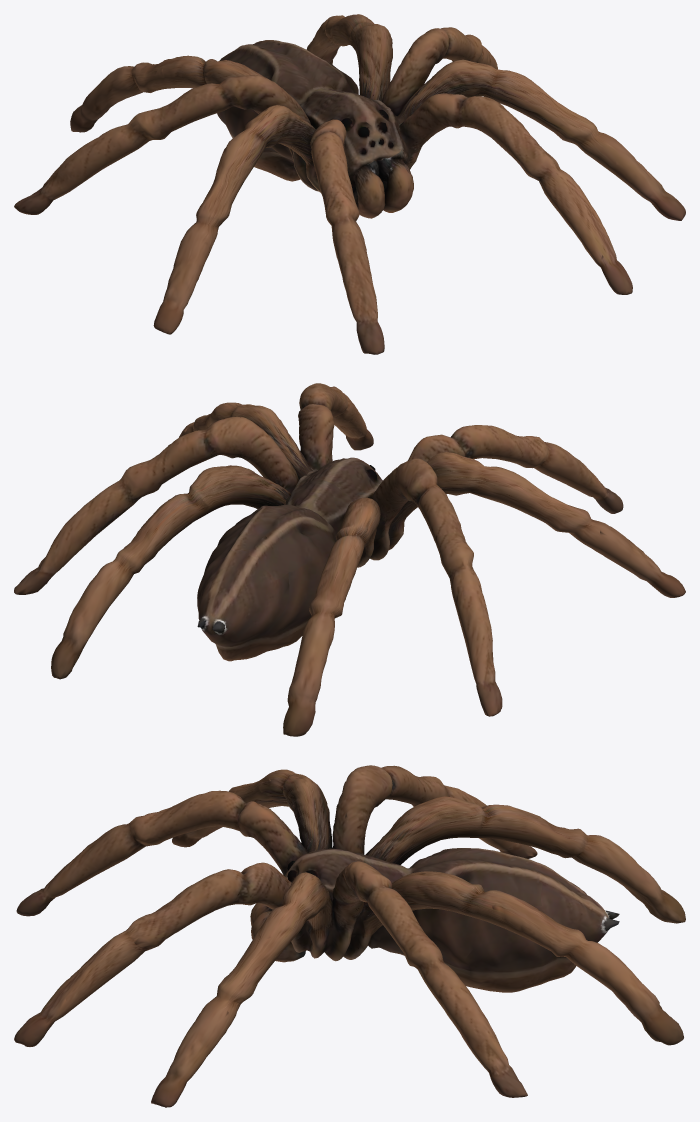
Rendered from MZ4250 - Giant Wolf Spider.glb.
3 views of the same model, one above another, from view 1: azimuth 30°, elevation 25°; view 2: azimuth 150°, elevation 25°; view 3: azimuth 270°, elevation 25° (orthographic). The views are drawn at different scales.
Parts seen in each view (by area): view 1: Giant Wolf Spider.001; view 2: Giant Wolf Spider.001; view 3: Giant Wolf Spider.001.
Boxes of the visible parts, x1,y1,x2,y2 form: Giant Wolf Spider.001: (14, 14, 685, 354); Giant Wolf Spider.001: (14, 383, 685, 736); Giant Wolf Spider.001: (14, 765, 685, 1107).
Size of the model in its own units: 21.42 by 6.29 by 22.61.
1 material, 1 textured.
